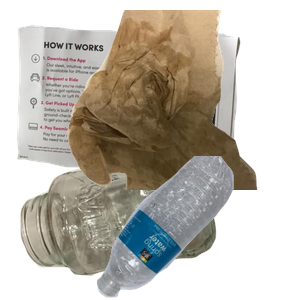glass: (18, 143, 227, 300)
paper: (14, 22, 247, 191)
plastic: (94, 156, 300, 300)
trash: (65, 10, 300, 190)
